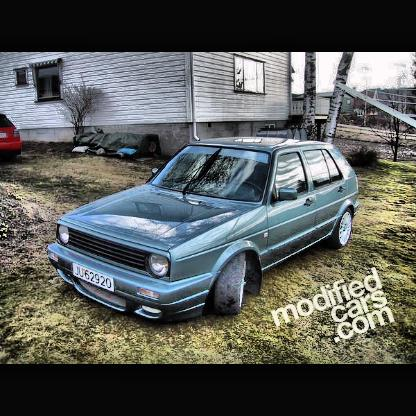Volkswagen Golf Hatchback 1991: (47, 138, 363, 326)
